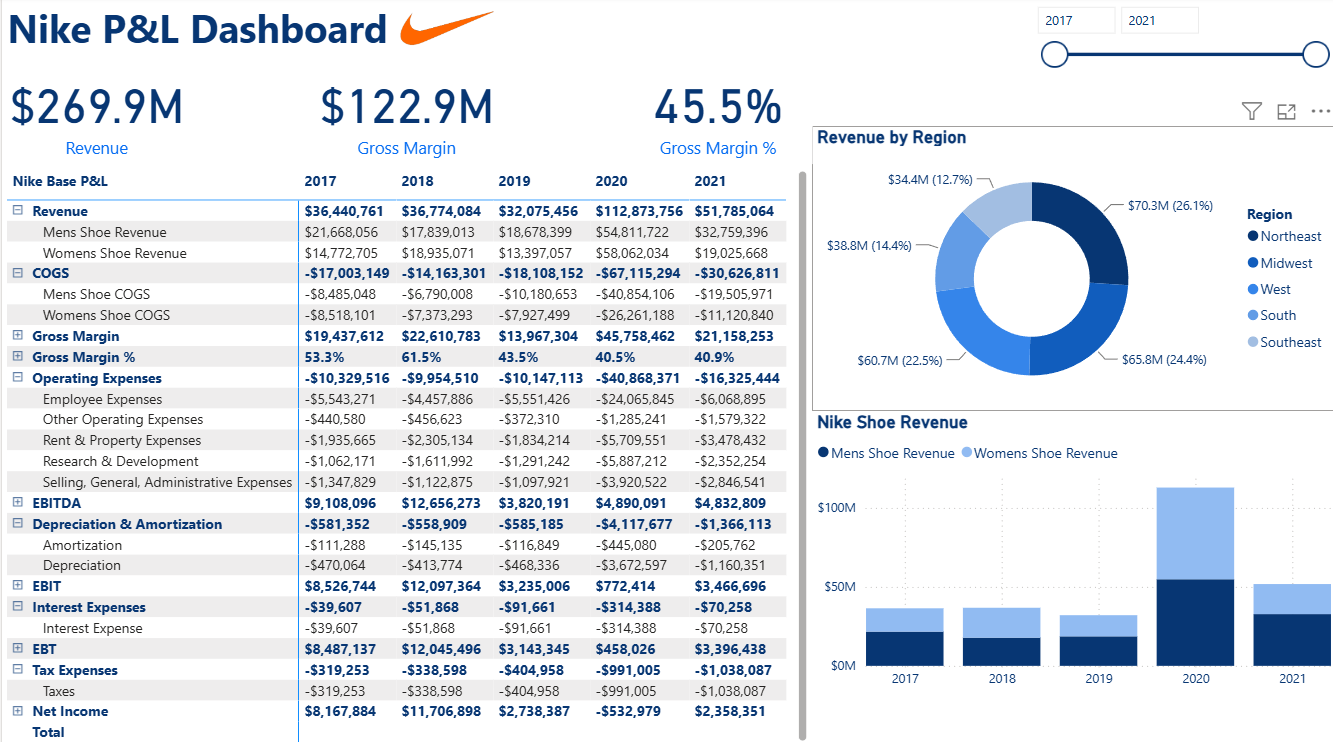

What the dashboard file says about the page in this screenshot:
{"tool":"powerbi","page":{"name":"Page 1","canvas":[1280,720],"ordinal":0},"visuals":[{"type":"image","box":[1139.9,673.1,140.1,46.7],"z":0},{"type":"pivotTable","fields":{"Rows":["DimPLLineItems.Line Item","DimAcc.Description"],"Values":["FactPLTran.PLAmtFormatted"],"Columns":["DimDate.Year"]},"box":[0,161.5,777.1,558.3],"z":1000},{"type":"columnChart","title":"Nike Shoe Revenue","fields":{"Y":["FactPLTran.SumRevenue"],"Category":["DimDate.Year"],"Series":["DimAcc.Description"]},"box":[777.1,398.5,502.9,274.3],"z":2000},{"type":"donutChart","title":"Revenue by Region","fields":{"Y":["FactPLTran.SumRevenue"],"Category":["DimStore.Region"]},"box":[777.1,124.2,502.9,274.3],"z":3000},{"type":"card","fields":{"Values":["FactPLTran.SumRevenue"]},"box":[0,61.2,182,100.1],"z":4000},{"type":"card","fields":{"Values":["FactPLTran.Gross Margin"]},"box":[297.6,61.2,182,100.1],"z":5000},{"type":"card","fields":{"Values":["FactPLTran.Gross Margin %"]},"box":[595.1,61.2,182,100.1],"z":6000},{"type":"slicer","fields":{"Values":["DimDate.Year"]},"box":[979.8,0,300.2,81.1],"z":7000},{"type":"textbox","box":[0,0,423.5,61.2],"z":8000},{"type":"image","box":[376.9,4.3,100.9,51.8],"z":9000}]}

Visuals, with their boxes in screenshot pixels (x1, y1, x2, y2), scaled from the page's 1280x720 canvas onto the 1333x742 screenshot:
image: detection(1187, 694, 1332, 741)
pivotTable - DimPLLineItems.Line Item x DimAcc.Description: detection(0, 166, 809, 741)
"Nike Shoe Revenue" columnChart: detection(809, 411, 1332, 693)
"Revenue by Region" donutChart: detection(809, 128, 1332, 411)
card - FactPLTran.SumRevenue: detection(0, 63, 190, 166)
card - FactPLTran.Gross Margin: detection(310, 63, 499, 166)
card - FactPLTran.Gross Margin %: detection(620, 63, 809, 166)
slicer - DimDate.Year: detection(1020, 0, 1332, 84)
textbox: detection(0, 0, 441, 63)
image: detection(393, 4, 498, 58)
